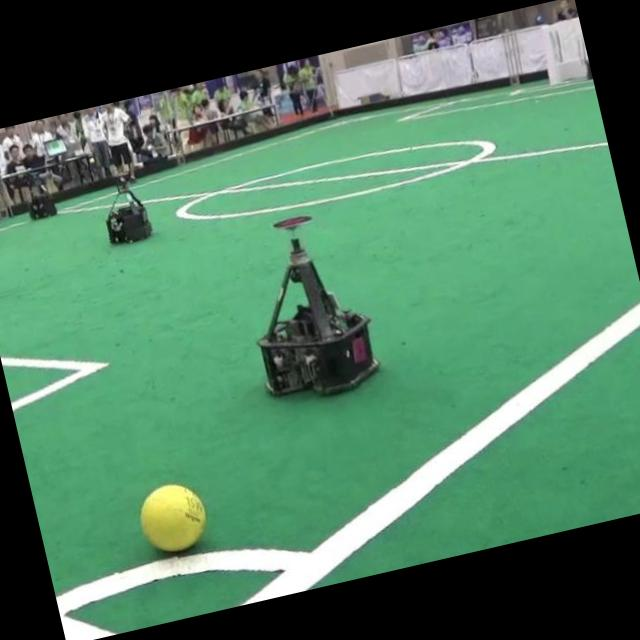ball: (139, 483, 205, 550)
goal: (542, 25, 562, 84)
robot: (258, 237, 377, 393), (105, 176, 151, 241), (29, 193, 56, 218)
